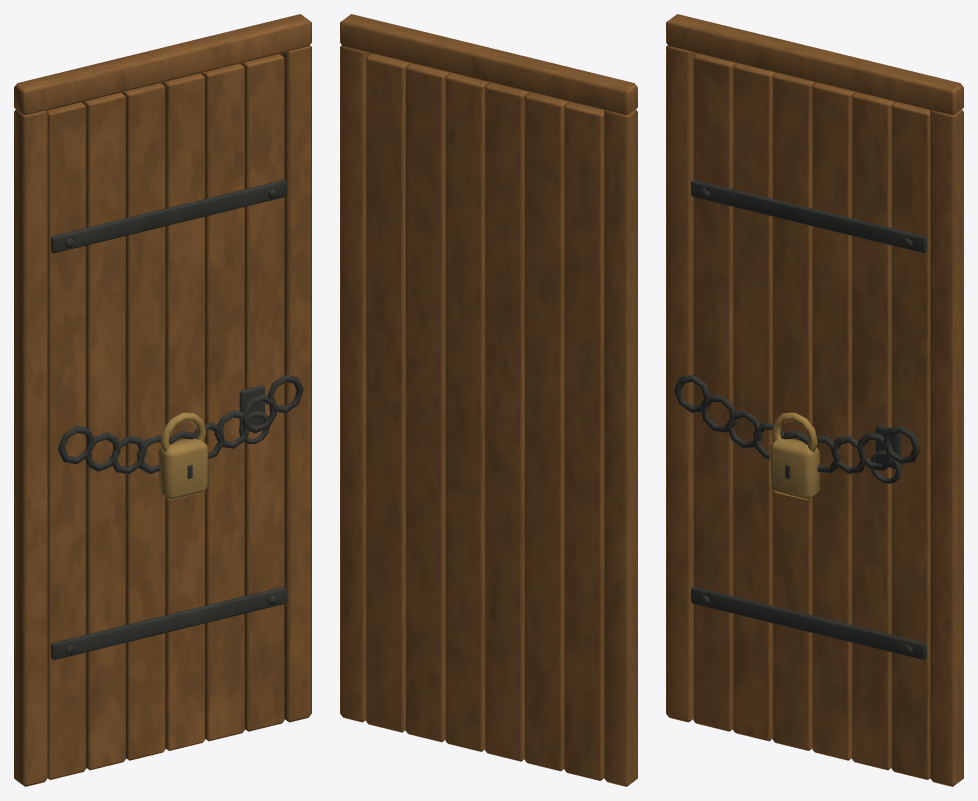
File: Furn_LockedDoor.fbx
The picture shows the model from 3 angles, left to right: view 1: azimuth 30°, elevation 25°; view 2: azimuth 150°, elevation 25°; view 3: azimuth 330°, elevation 25°; orthographic projection.
Visible parts, largest first — view 1: Furn_LockedDoor_Mesh; view 2: Furn_LockedDoor_Mesh; view 3: Furn_LockedDoor_Mesh.
Boxes of the visible parts, box(x1,y1,x2,y2) form: Furn_LockedDoor_Mesh: box(14, 14, 311, 786); Furn_LockedDoor_Mesh: box(340, 14, 637, 786); Furn_LockedDoor_Mesh: box(666, 14, 963, 786).
Size of the model in its own units: 1 by 2.3 by 0.2.
